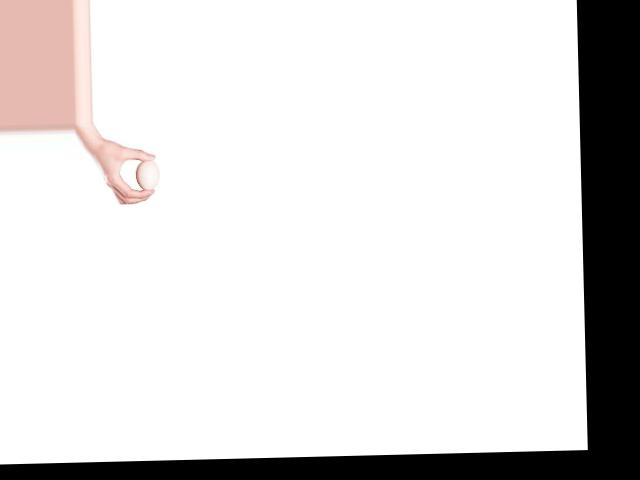egg: (135, 159, 159, 190)
